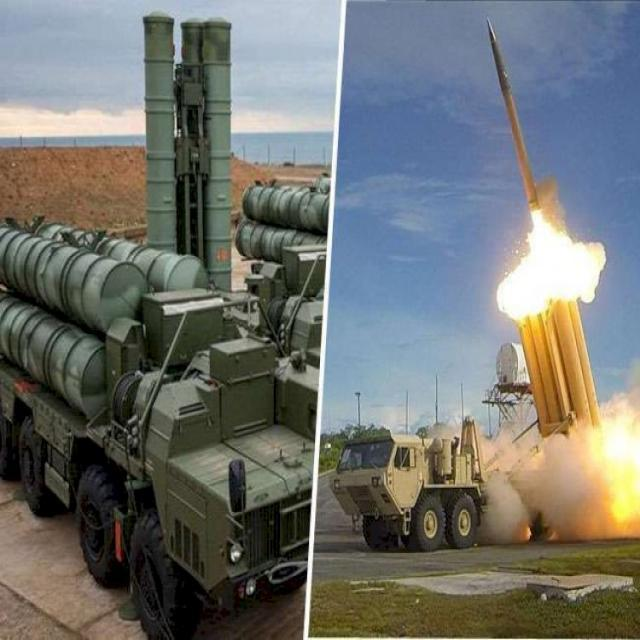Missile: (483, 13, 549, 219)
